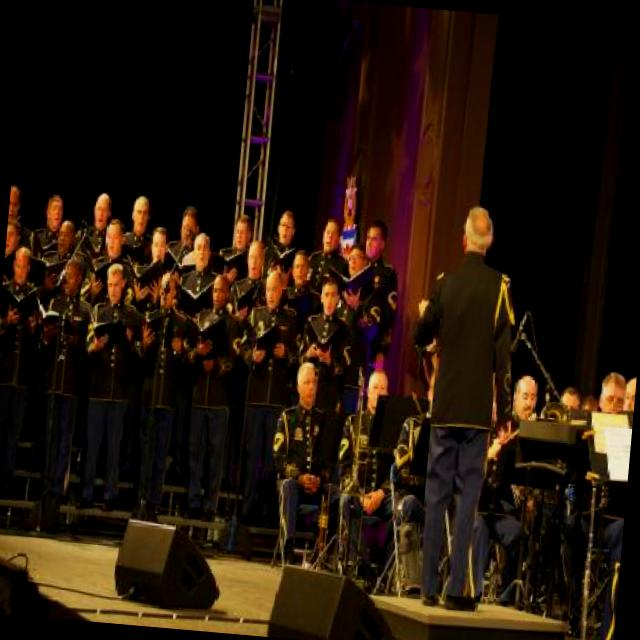Person: (0, 183, 407, 538), (402, 186, 542, 615), (460, 355, 637, 640), (326, 361, 421, 598), (259, 360, 356, 566), (386, 350, 469, 556)
